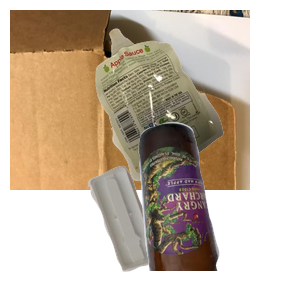cardboard: (10, 10, 250, 190)
glass: (136, 120, 300, 300)
plastic: (85, 163, 235, 300)
trash: (93, 26, 300, 200)
